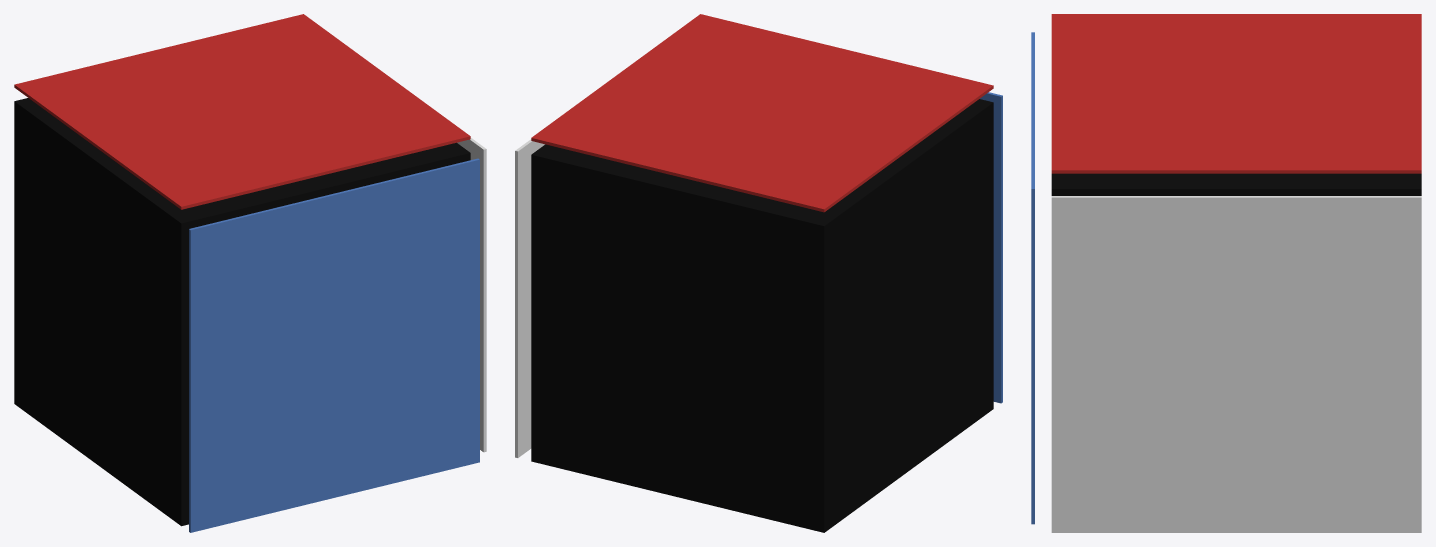
The model's file is wrb.glb.
3 views of the same model, side by side, from view 1: azimuth 30°, elevation 25°; view 2: azimuth 150°, elevation 25°; view 3: azimuth 270°, elevation 25° (orthographic). The views are drawn at different scales.
Visible parts, largest first — view 1: blue-7, Cube, red-1, white-3; view 2: Cube, red-1, white-3, blue-7; view 3: white-3, red-1, Cube, blue-7.
Part boxes in pixels (x1,y1,x2,y2): blue-7: (189, 158, 479, 532); Cube: (14, 98, 470, 526); red-1: (14, 14, 470, 209); white-3: (457, 137, 486, 452); Cube: (531, 99, 993, 532); red-1: (531, 14, 993, 212); white-3: (515, 139, 544, 457); blue-7: (980, 92, 1002, 403); white-3: (1051, 196, 1421, 532); red-1: (1051, 14, 1421, 173); Cube: (1051, 173, 1421, 195); blue-7: (1031, 32, 1034, 524).
Bounding box in the file's own units: 2.11 × 2.11 × 2.11.
